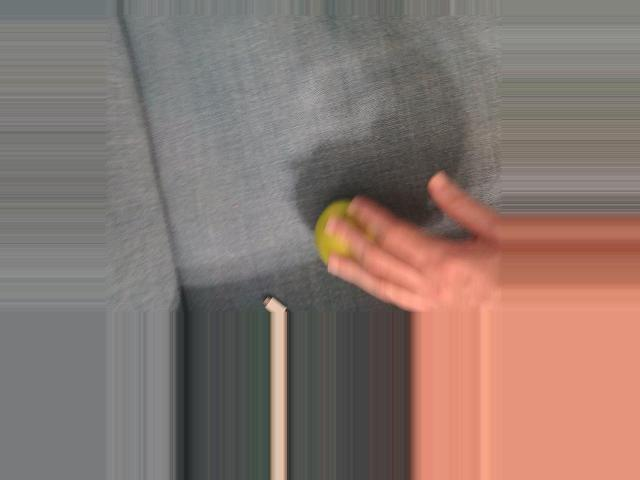apple: (294, 193, 418, 283)
